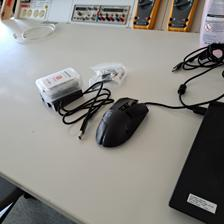mouse: (95, 96, 150, 148)
